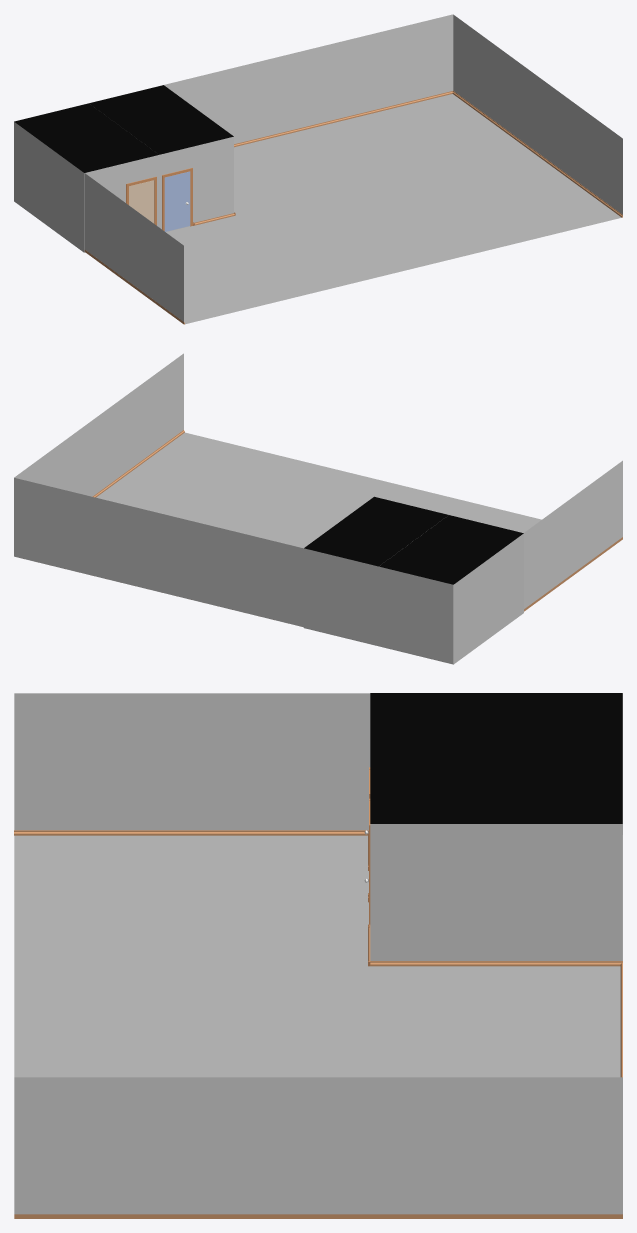
Rendered from Loft.fbx.
The picture shows the model from 3 angles, top to bottom: view 1: azimuth 30°, elevation 25°; view 2: azimuth 150°, elevation 25°; view 3: azimuth 270°, elevation 25°; orthographic projection. The views are drawn at different scales.
Visible parts, largest first — view 1: Loft, Loft.001, Bathroom Block, Closet Block, Loft Trimming, Closet Door, Bathroom Door; view 2: Loft.001, Loft, Bathroom Block, Closet Block, Loft Trimming; view 3: Loft.001, Loft, Closet Block, Bathroom Block, Loft Trimming.
Boxes of the visible parts, x1,y1,x2,y2 form: Loft: [166, 94, 621, 324]; Loft.001: [15, 14, 622, 321]; Bathroom Block: [14, 103, 159, 252]; Closet Block: [89, 85, 233, 231]; Loft Trimming: [84, 91, 622, 324]; Closet Door: [162, 168, 192, 231]; Bathroom Door: [126, 176, 156, 225]; Loft.001: [14, 353, 622, 663]; Loft: [96, 432, 541, 548]; Bathroom Block: [379, 515, 523, 664]; Closet Block: [303, 496, 448, 646]; Loft Trimming: [92, 430, 622, 611]; Loft.001: [14, 693, 622, 1214]; Loft: [14, 835, 622, 1077]; Closet Block: [370, 758, 622, 960]; Bathroom Block: [370, 693, 622, 758]; Loft Trimming: [14, 830, 622, 1218].
Size of the model in its own units: 3497 by 607 by 2342.
